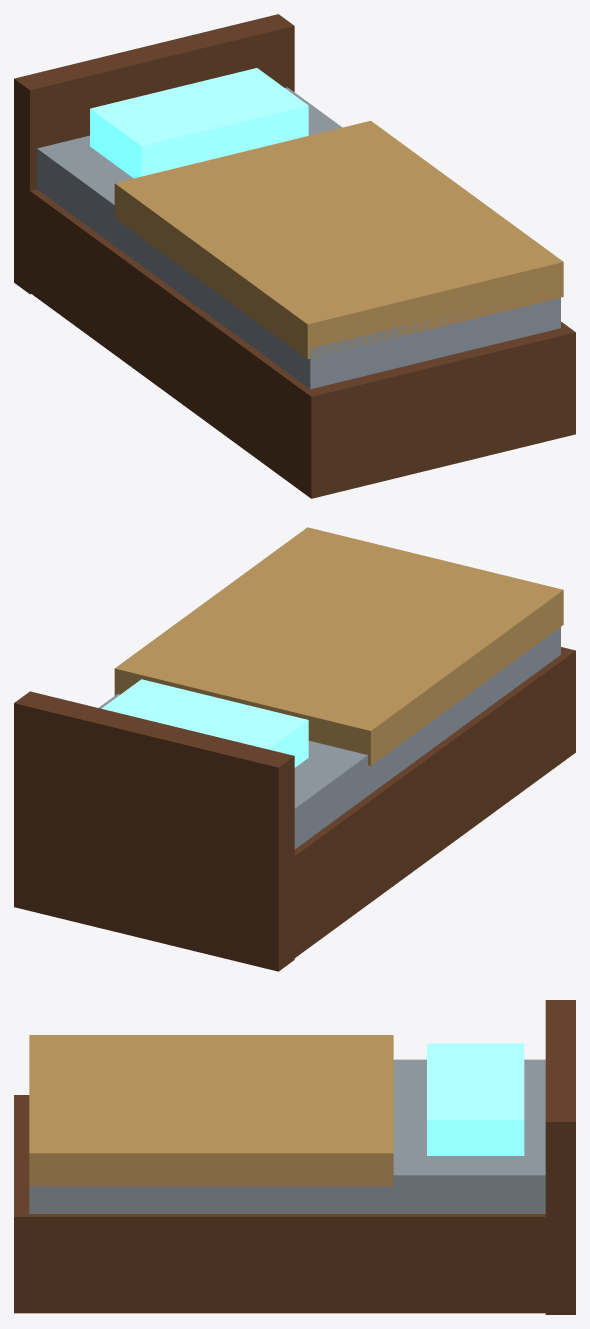
Rendered from f_bed.glb.
3 views of the same model, one above another, from view 1: azimuth 30°, elevation 25°; view 2: azimuth 150°, elevation 25°; view 3: azimuth 270°, elevation 25° (orthographic). The views are drawn at different scales.
Parts seen in each view (by area): view 1: bed; view 2: bed; view 3: bed.
Part boxes in pixels (x1,y1,x2,y2): bed: [14, 14, 575, 498]; bed: [14, 527, 575, 971]; bed: [14, 1000, 575, 1314].
Bounding box in the file's own units: 0.95 × 0.7 × 1.85.
